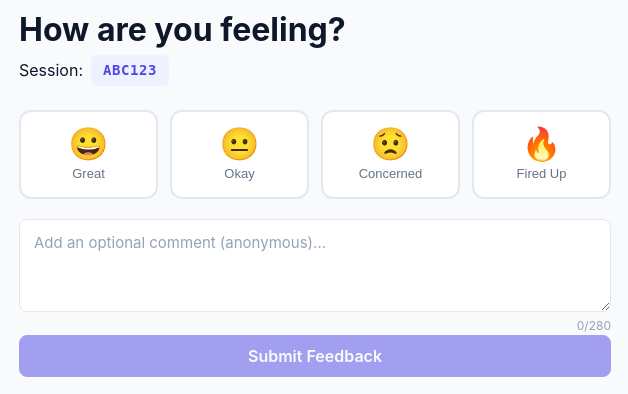
it: Mood Submit Page › submit button is enabled after selecting a mood
Click the button "😀 Great" at (88,154), box x1=19 y1=110 x2=158 y2=199
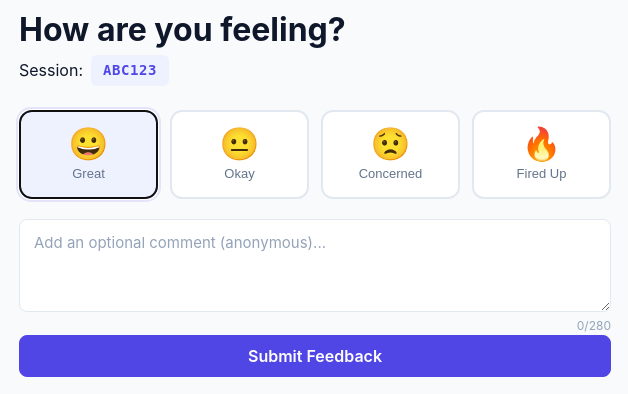
Expected: the button "Submit Feedback" is enabled, x1=19 y1=335 x2=611 y2=377
